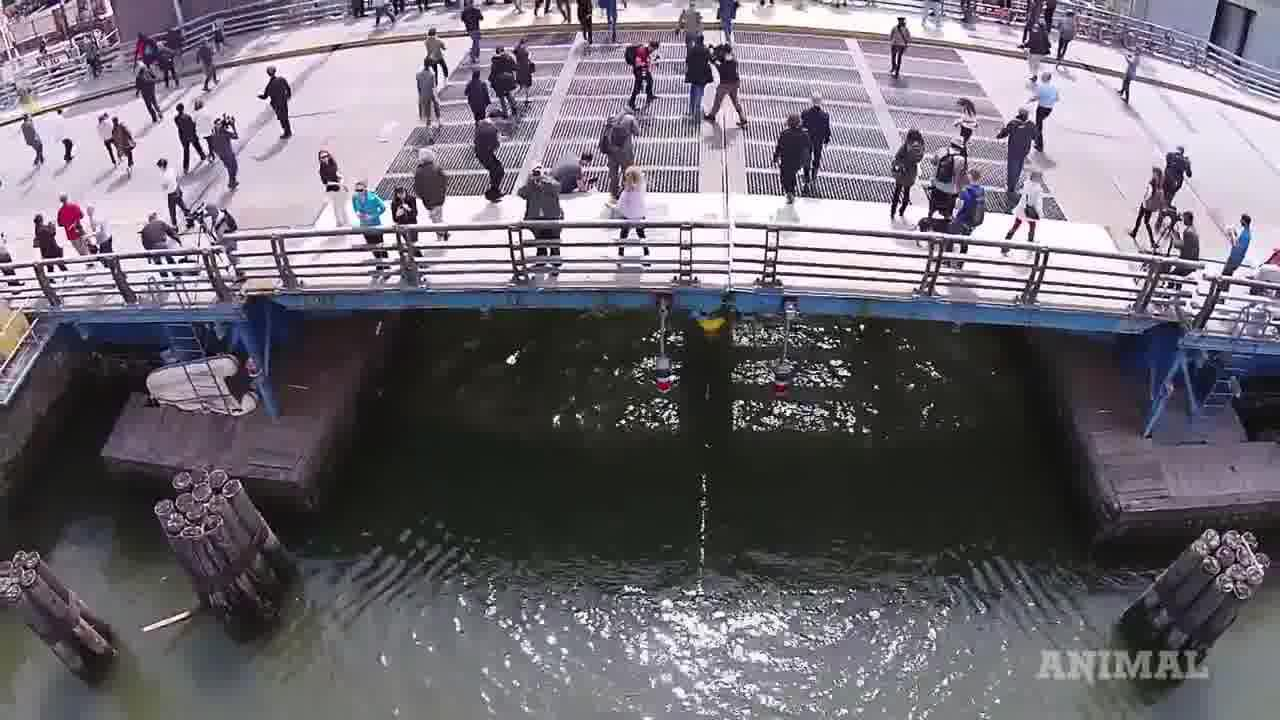swimmer: (688, 311, 737, 348)
